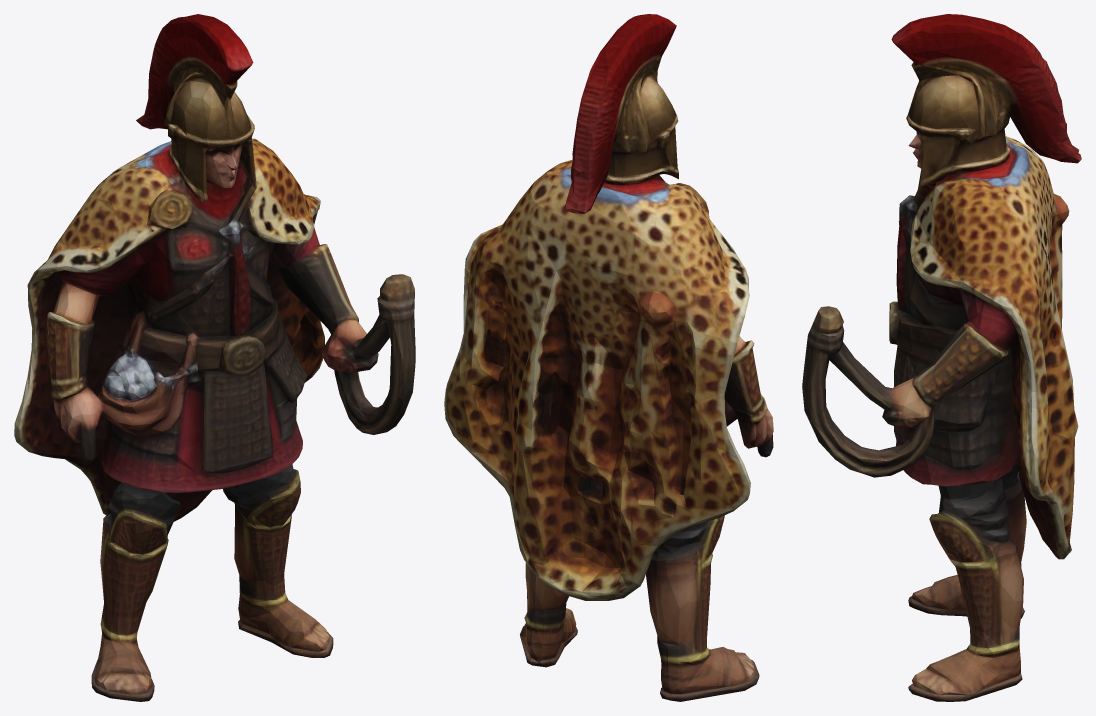
Rendered from raidSlinger.glb.
3 renders of one model, left to right at view 1: azimuth 30°, elevation 25°; view 2: azimuth 150°, elevation 25°; view 3: azimuth 270°, elevation 25°, orthographic.
Visible parts, largest first — view 1: world; view 2: world; view 3: world.
Part boxes in pixels (x1,y1,x2,y2): world: (14, 14, 415, 701); world: (444, 14, 773, 701); world: (802, 14, 1081, 701).
Bounding box in the file's own units: 0.5043 × 0.9996 × 0.4019.
1 material, 1 textured.
